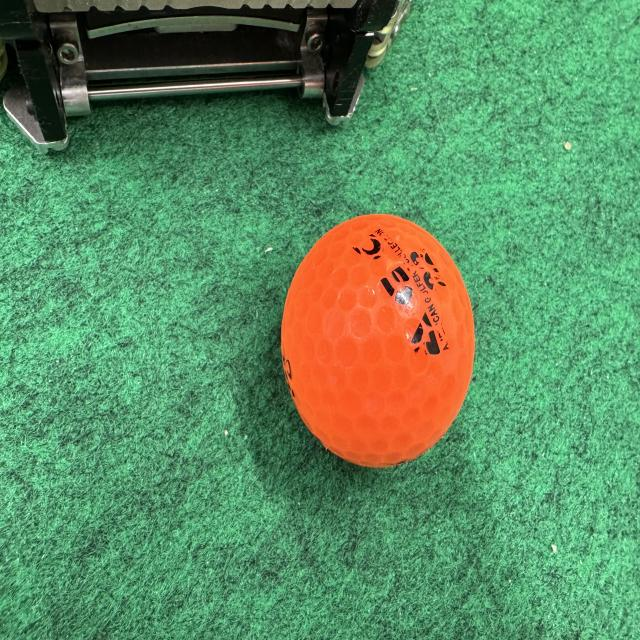ball: (274, 201, 488, 486)
